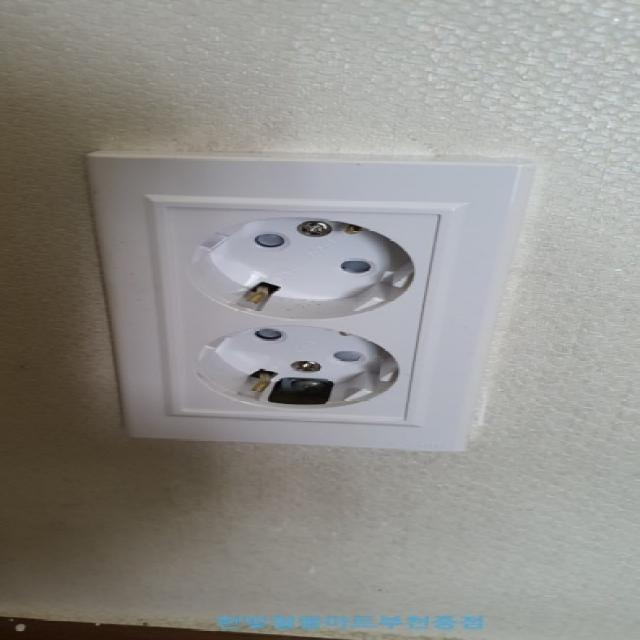typeb: (21, 97, 556, 520)
